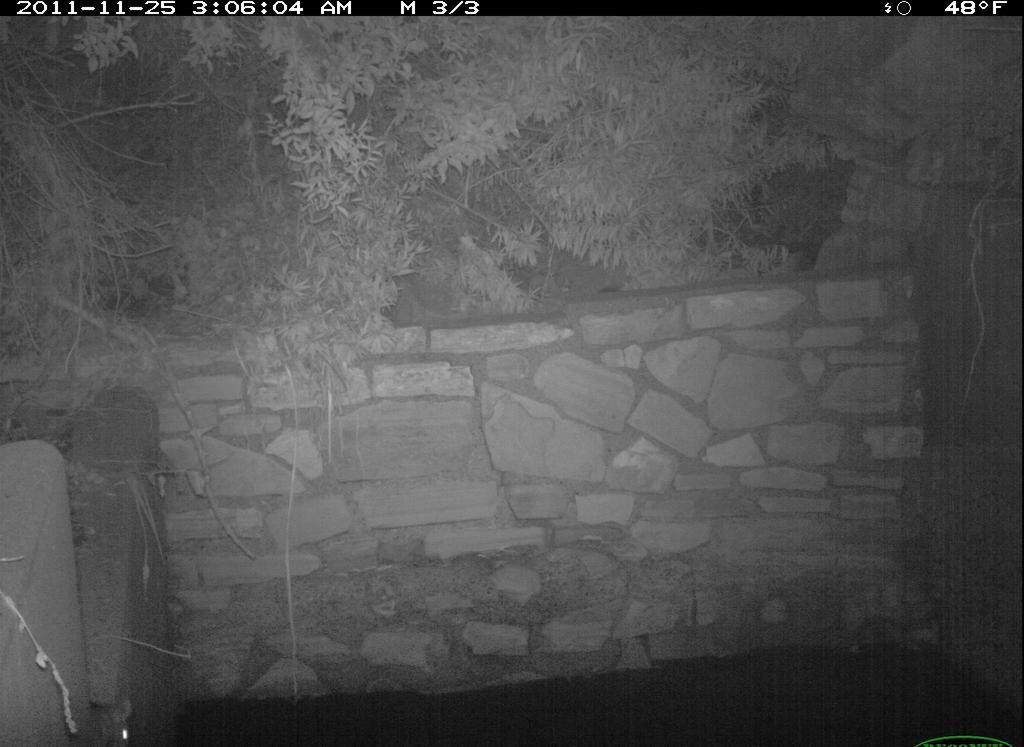rodent: (83, 692, 144, 747)
